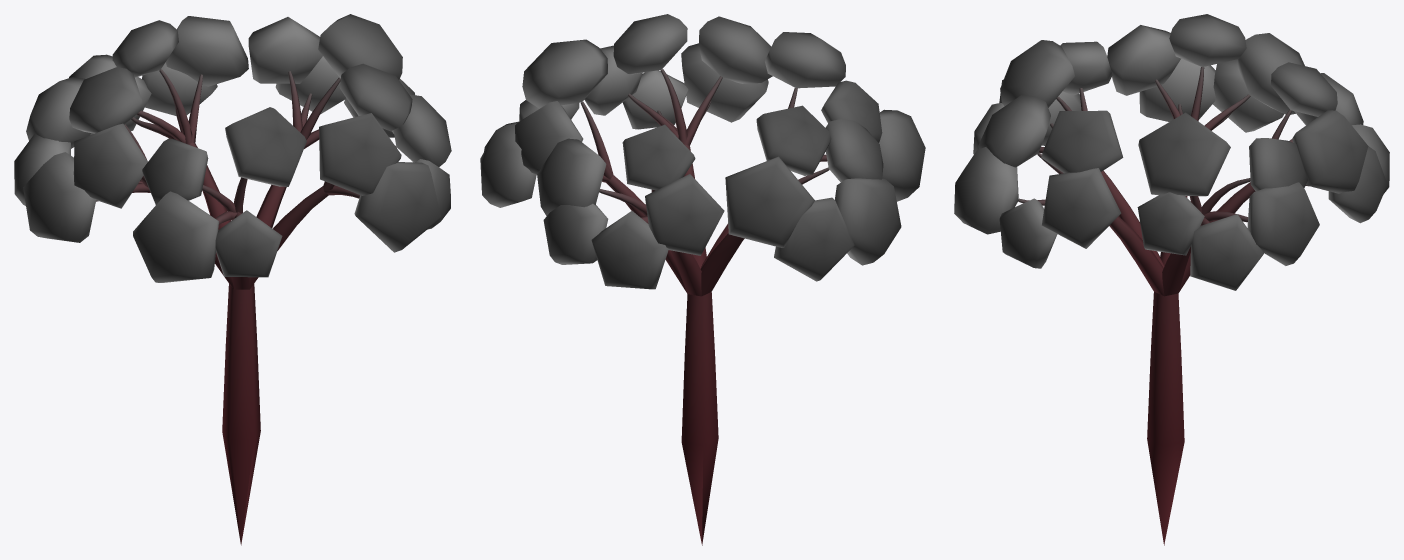
Rendered from plants-trees-palms-gray-leaf-tree_v3.glb.
3 renders of one model, left to right at view 1: azimuth 30°, elevation 25°; view 2: azimuth 150°, elevation 25°; view 3: azimuth 270°, elevation 25°, orthographic.
Visible parts, largest first — view 1: Gray Leaf Tree_v3; view 2: Gray Leaf Tree_v3; view 3: Gray Leaf Tree_v3.
Boxes of the visible parts, left/top/right/bottom form: Gray Leaf Tree_v3: left=14, top=14, right=451, bottom=545; Gray Leaf Tree_v3: left=480, top=14, right=925, bottom=545; Gray Leaf Tree_v3: left=954, top=14, right=1389, bottom=545.
Bounding box in the file's own units: 4.14 × 5 × 4.06.
